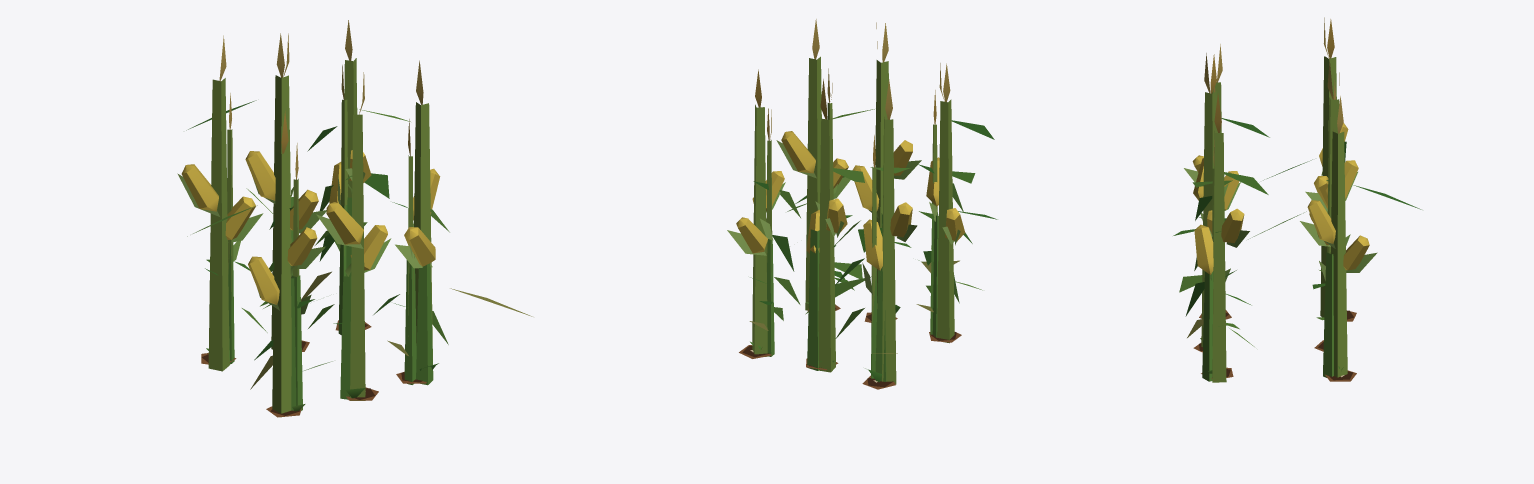
File: corn.glb
3 views of the same model, side by side, from view 1: azimuth 30°, elevation 25°; view 2: azimuth 150°, elevation 25°; view 3: azimuth 270°, elevation 25° (orthographic). The views are drawn at different scales.
Visible parts, largest first — view 1: crop-corn-3, crop-corn-3-far, crop-corn-2, crop-corn-2-far, crop-corn-0; view 2: crop-corn-3, crop-corn-3-far, crop-corn-2, crop-corn-2-far, crop-corn-0; view 3: crop-corn-3, crop-corn-2, crop-corn-3-far, crop-corn-0.
Boxes of the visible parts, x1,y1,x2,y2 form: crop-corn-3: (177,20,532,417); crop-corn-3-far: (205,65,449,389); crop-corn-2: (206,182,433,410); crop-corn-2-far: (228,205,416,410); crop-corn-0: (201,320,426,417); crop-corn-3: (727,19,997,384); crop-corn-3-far: (749,68,972,338); crop-corn-2: (766,203,982,381); crop-corn-2-far: (759,202,937,378); crop-corn-0: (739,304,961,389); crop-corn-3: (1173,17,1421,382); crop-corn-2: (1202,201,1333,381); crop-corn-3-far: (1185,80,1350,337); crop-corn-0: (1193,310,1356,381).
Bounding box in the file's own units: 3.47 × 2.6 × 3.46.
